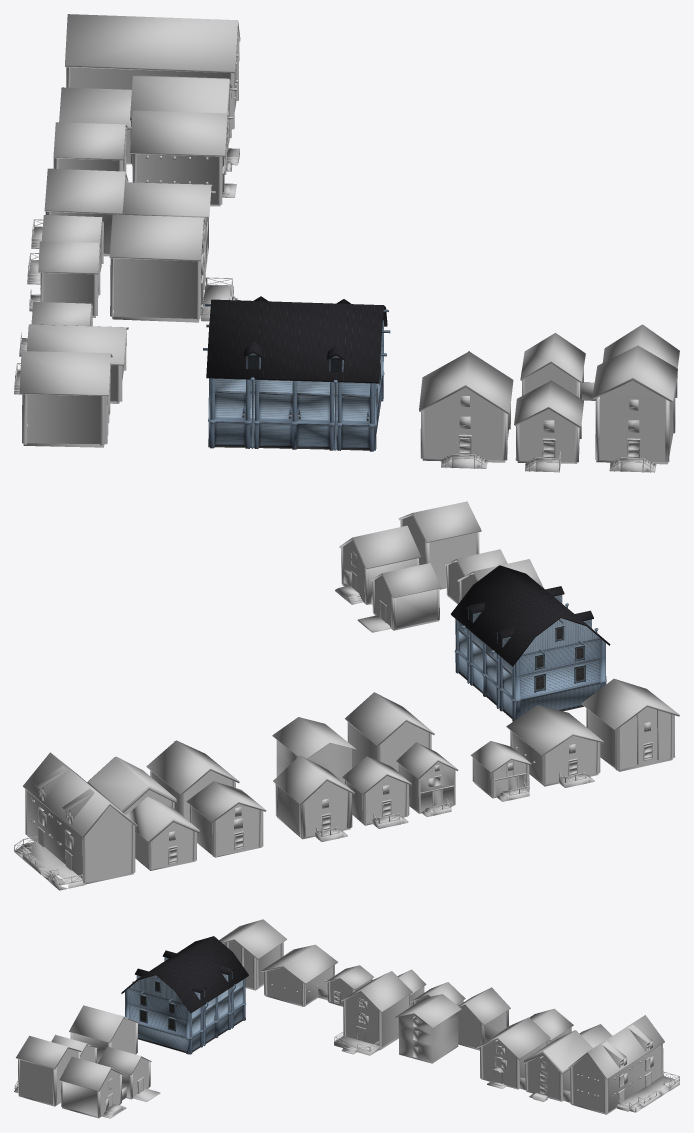
Rendered from marketSquare_seaside.fbx.
The picture shows the model from 3 angles, top to bottom: view 1: azimuth 30°, elevation 25°; view 2: azimuth 150°, elevation 25°; view 3: azimuth 270°, elevation 25°; orthographic projection. The views are drawn at different scales.
Visible parts, largest first — view 1: marketSquare_seaside; view 2: marketSquare_seaside; view 3: marketSquare_seaside.
Boxes of the visible parts, x1,y1,x2,y2 form: marketSquare_seaside: (14,14,679,472); marketSquare_seaside: (14,501,679,890); marketSquare_seaside: (14,919,679,1118).
Size of the model in its own units: 5901 by 10295 by 1318.
